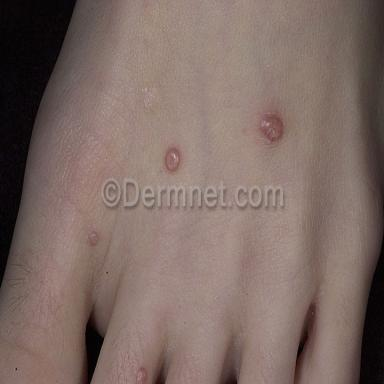Molluscum-Contagiosum: (165, 146, 181, 173), (137, 368, 146, 382), (90, 232, 98, 245)
